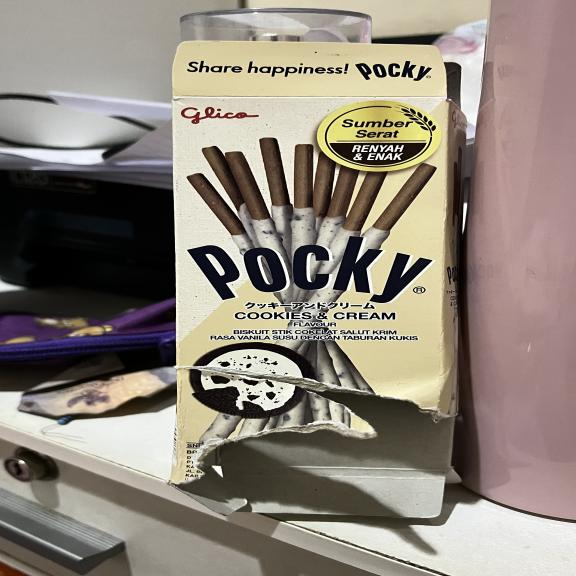Kertas: (175, 97, 457, 469)
